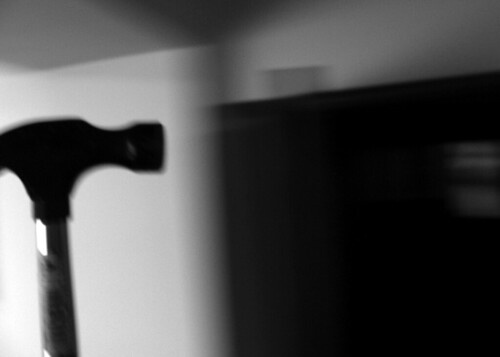hammer: (1, 112, 171, 357)
